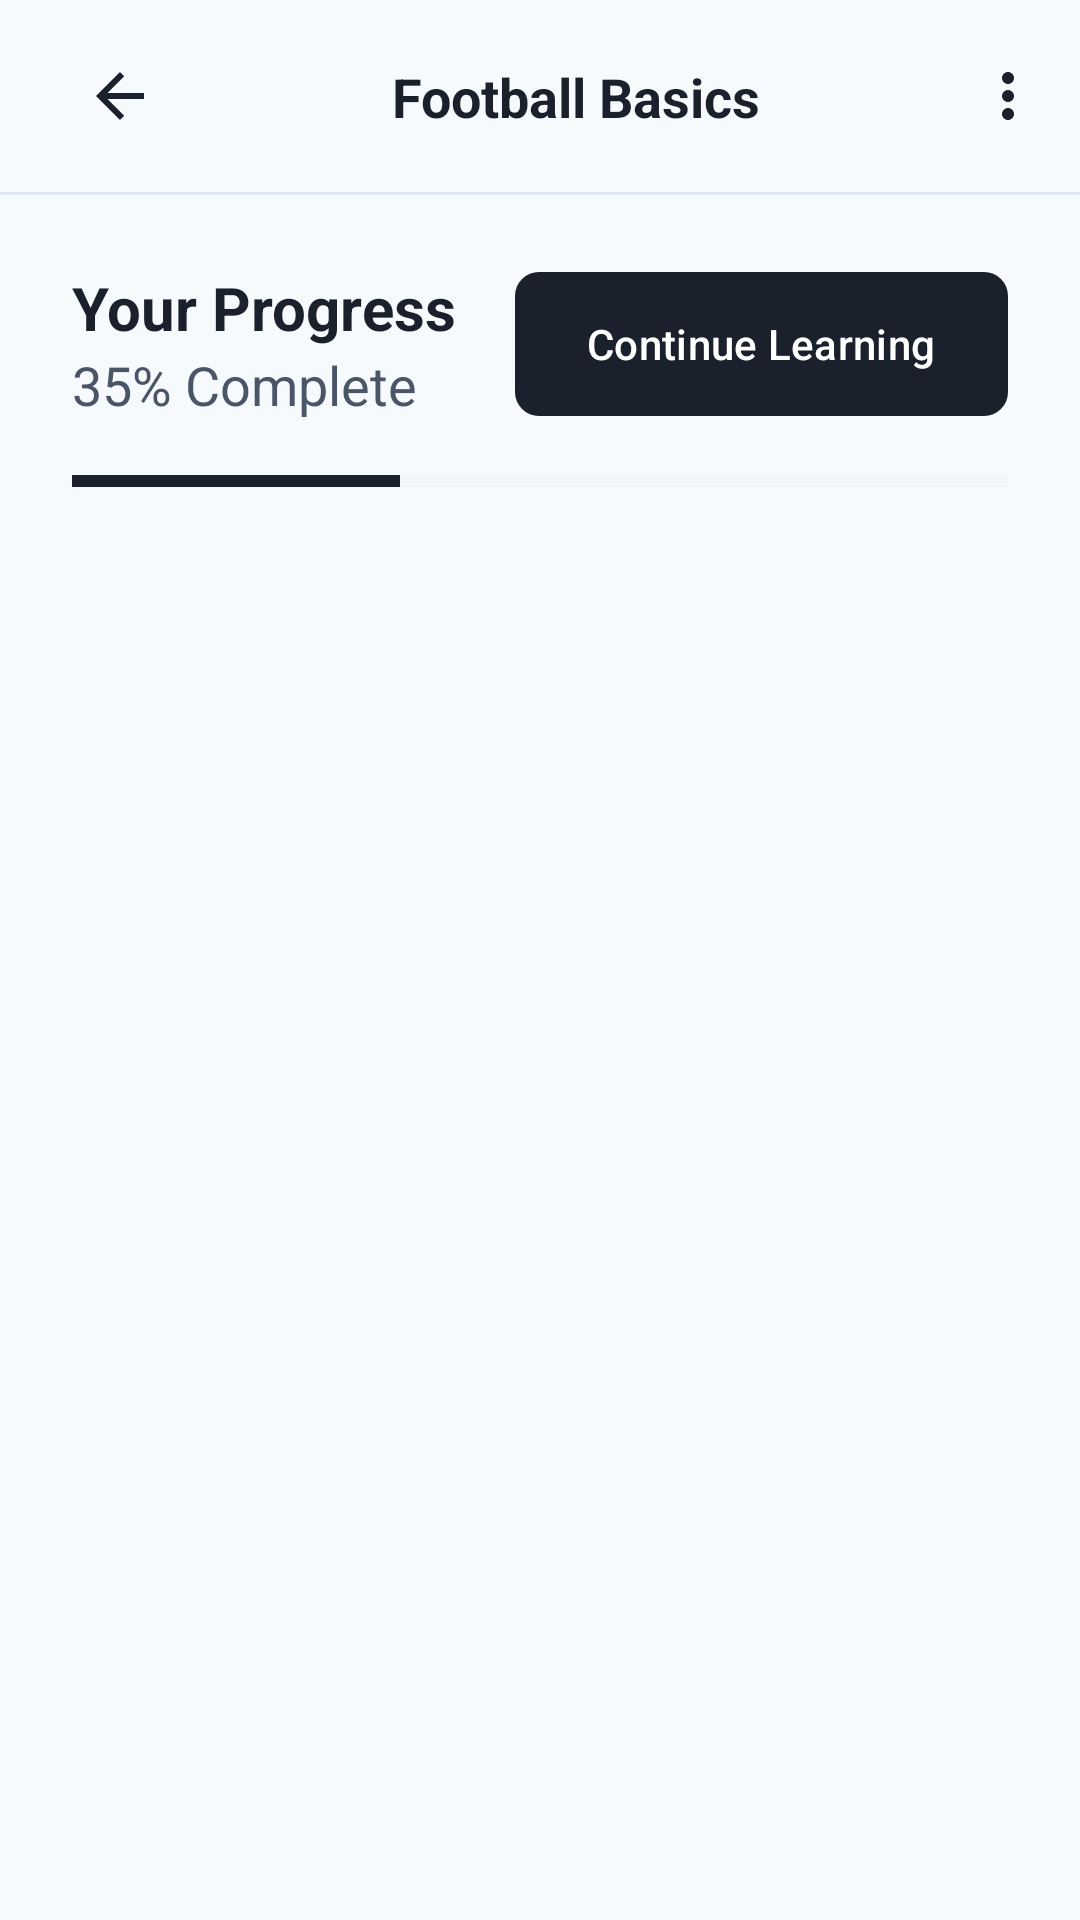

Icons on this 1080 × 1920 Android screen, each with its box as box=[x1, y1, x2, y2]:
Back: box=[96, 72, 144, 120]
Menu: box=[1002, 72, 1014, 120]
